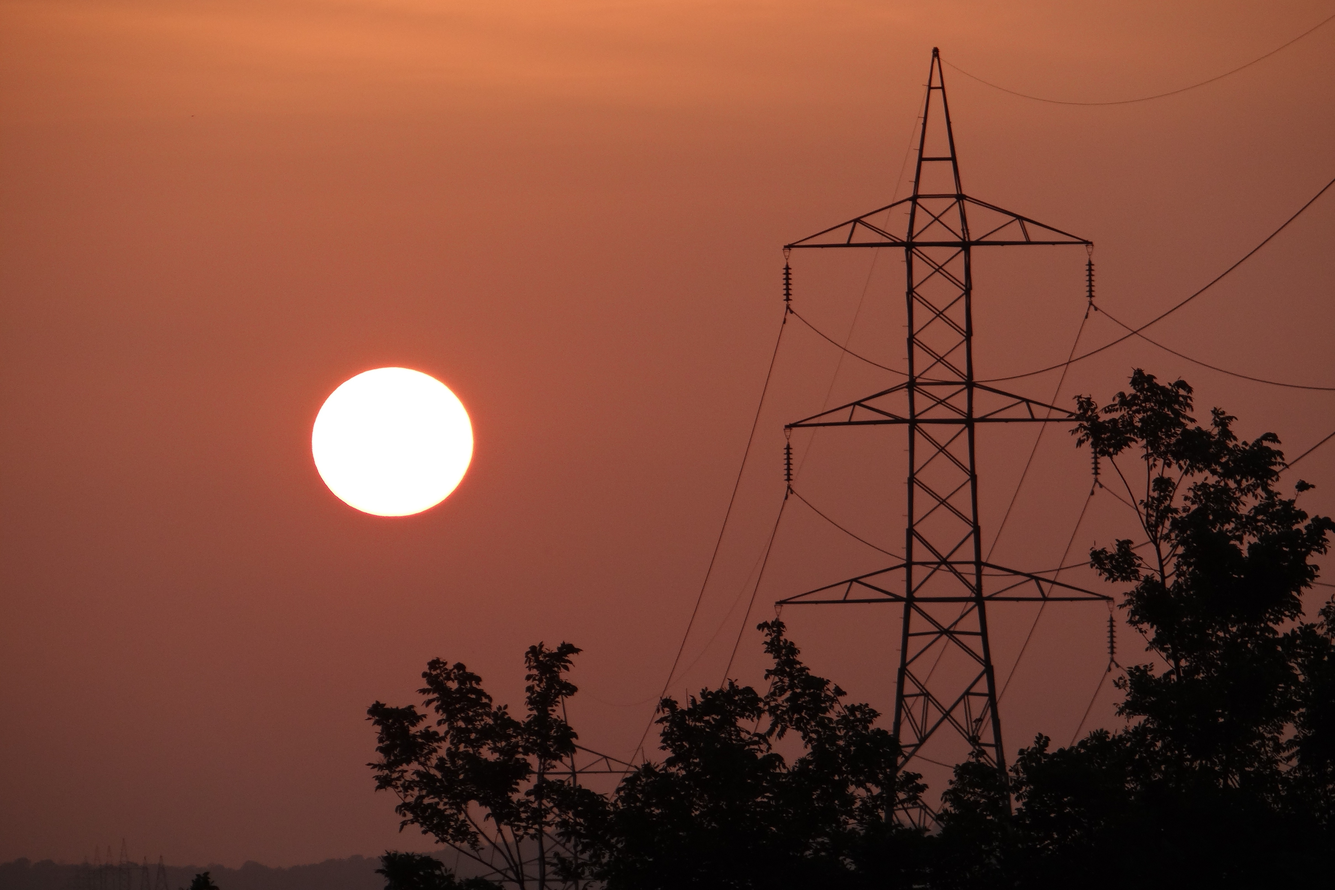insulator: (772, 437, 801, 489), (1079, 258, 1102, 312), (1100, 611, 1124, 662), (776, 257, 798, 312), (1082, 445, 1106, 487)
